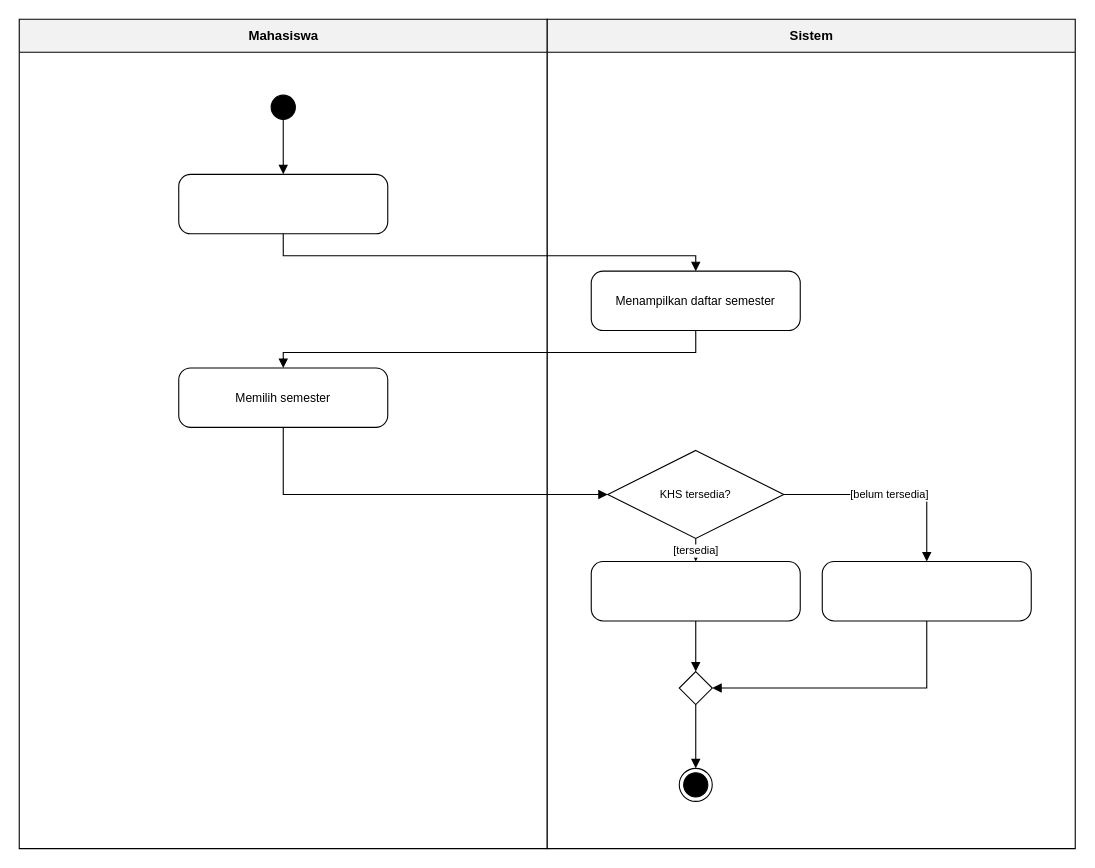
Some shapes in this 1095 by 868 pixel diagram are drawn without their labels. The centre of each missing label's shape, as x and y in pixels:
"Membuka fungsi Lihat KHS" goes at pixel 283 203.
"Menampilkan KHS semester yang dipilih" goes at pixel 695 590.
"Menampilkan pesan KHS belum tersedia" goes at pixel 926 590.
